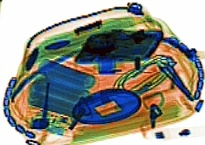powerbank: (25, 52, 96, 136)
